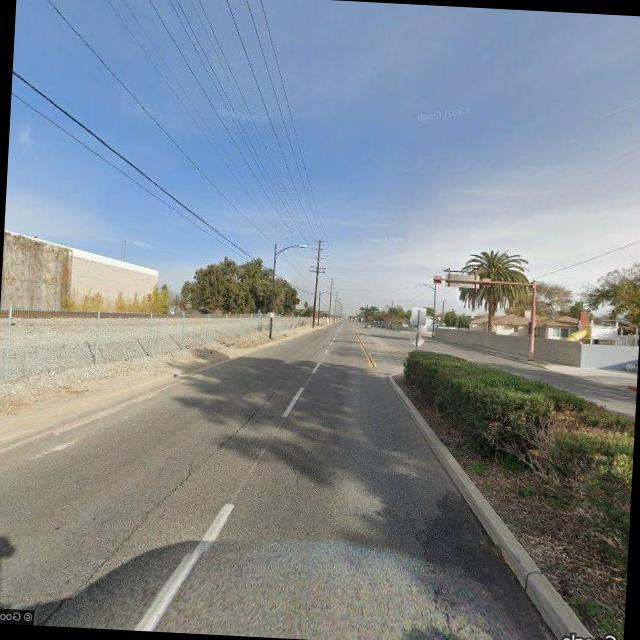crack: (48, 368, 282, 634), (402, 493, 462, 640)
